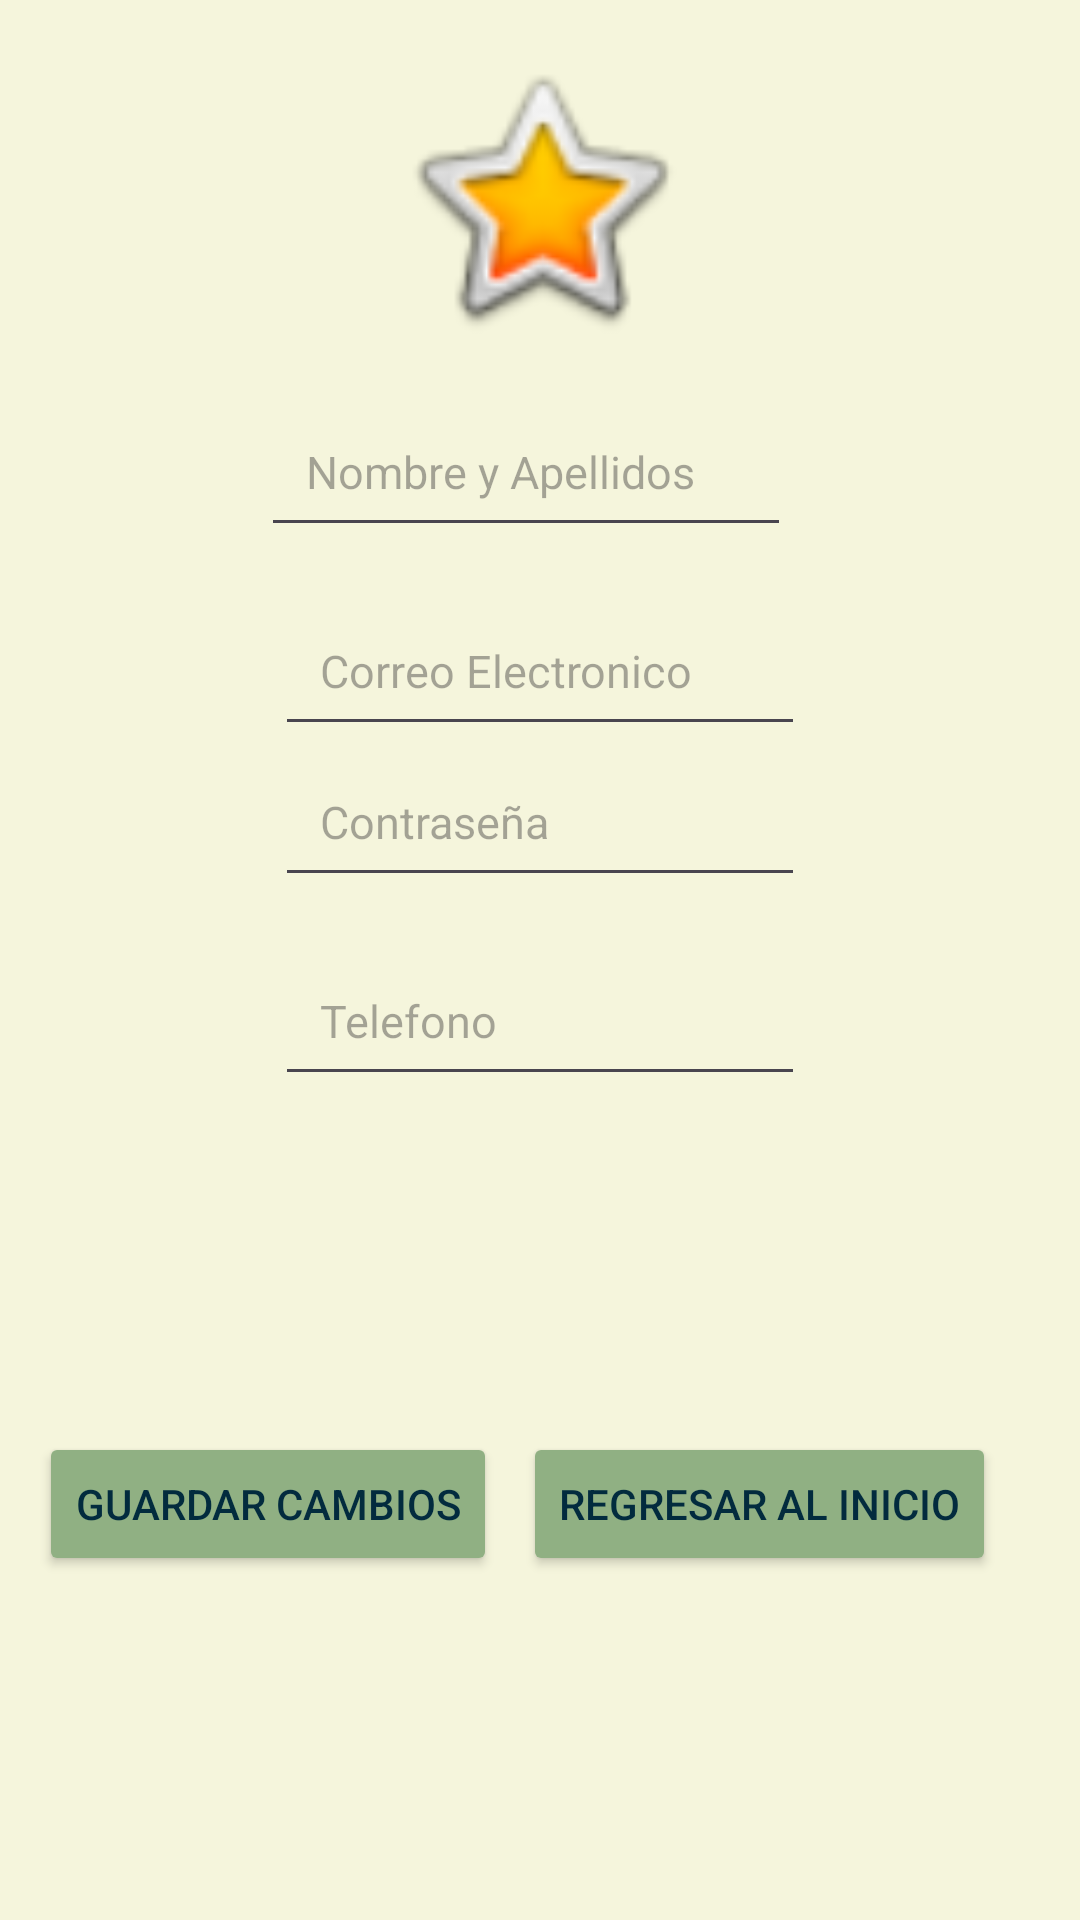

Icon click points for this 1080w x 1920h phone screenshot, format [x,y]:
star on: [543,200]
